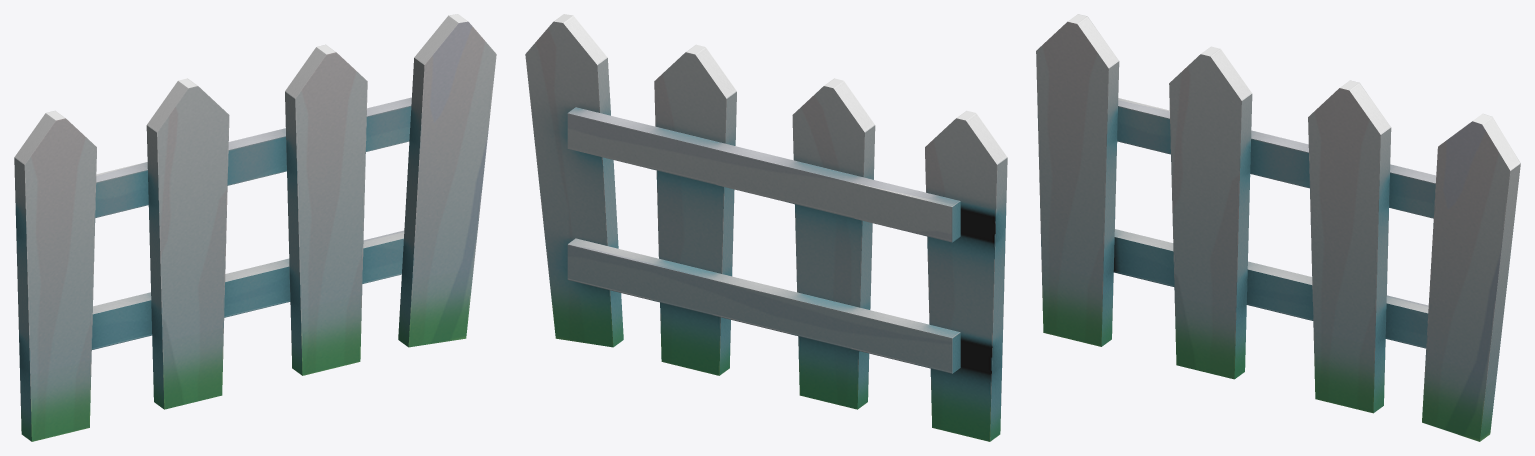
Rendered from fence_end.FBX.
3 views of the same model, side by side, from view 1: azimuth 30°, elevation 25°; view 2: azimuth 150°, elevation 25°; view 3: azimuth 330°, elevation 25° (orthographic).
Parts seen in each view (by area): view 1: fence_end; view 2: fence_end; view 3: fence_end.
Part boxes in pixels (left/top/right/bottom): fence_end: left=14, top=14, right=496, bottom=441; fence_end: left=525, top=14, right=1007, bottom=441; fence_end: left=1036, top=14, right=1520, bottom=441.
Size of the model in its own units: 187 by 120 by 12.79.
